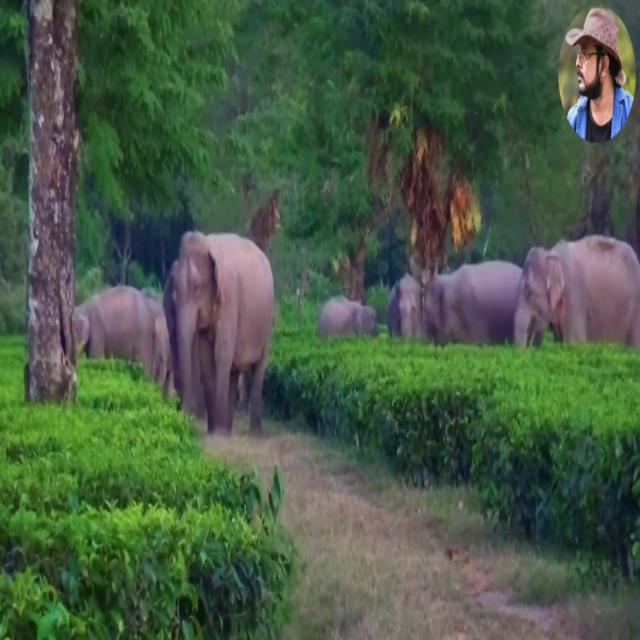Elephant: (162, 229, 275, 438), (514, 234, 640, 349), (385, 259, 527, 347), (73, 283, 174, 399), (316, 294, 378, 338)
